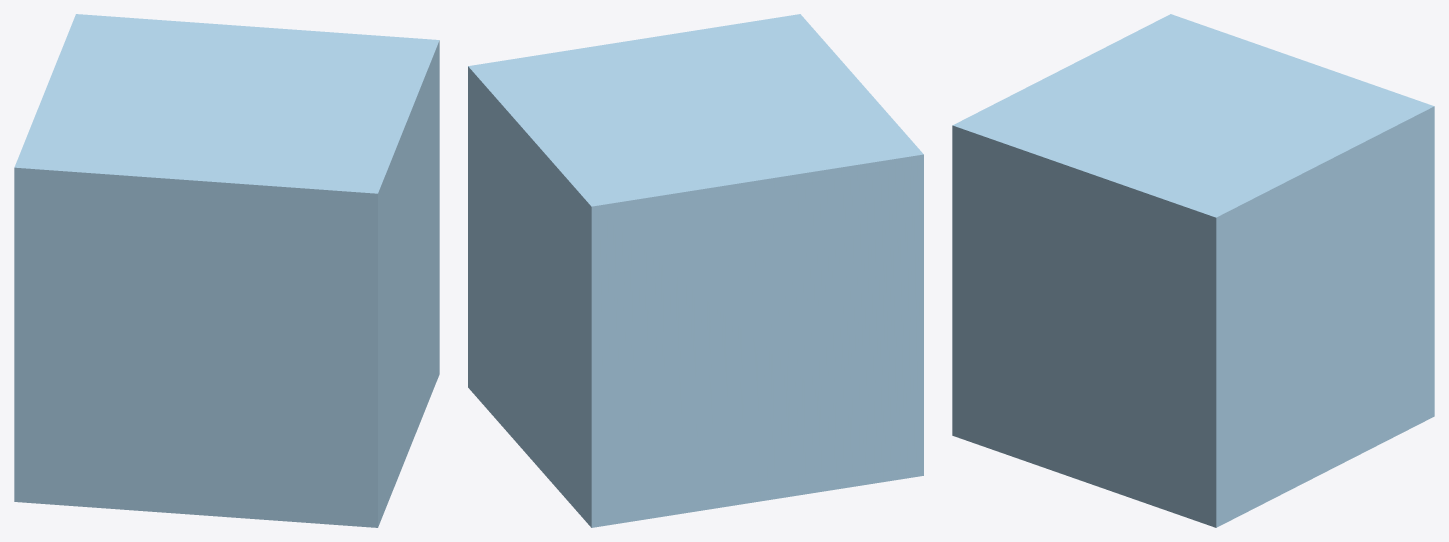
Rendered from Act1_Scene3_VRPlayerPlacement.fbx.
3 renders of one model, left to right at view 1: azimuth 30°, elevation 25°; view 2: azimuth 150°, elevation 25°; view 3: azimuth 270°, elevation 25°, orthographic. The views are drawn at different scales.
Visible parts, largest first — view 1: VRPlayerPlacement; view 2: VRPlayerPlacement; view 3: VRPlayerPlacement.
Part boxes in pixels (left/top/right/bottom): VRPlayerPlacement: left=14, top=14, right=439, bottom=527; VRPlayerPlacement: left=468, top=14, right=923, bottom=527; VRPlayerPlacement: left=952, top=14, right=1434, bottom=527.
Bounding box in the file's own units: 168 × 119 × 168.
